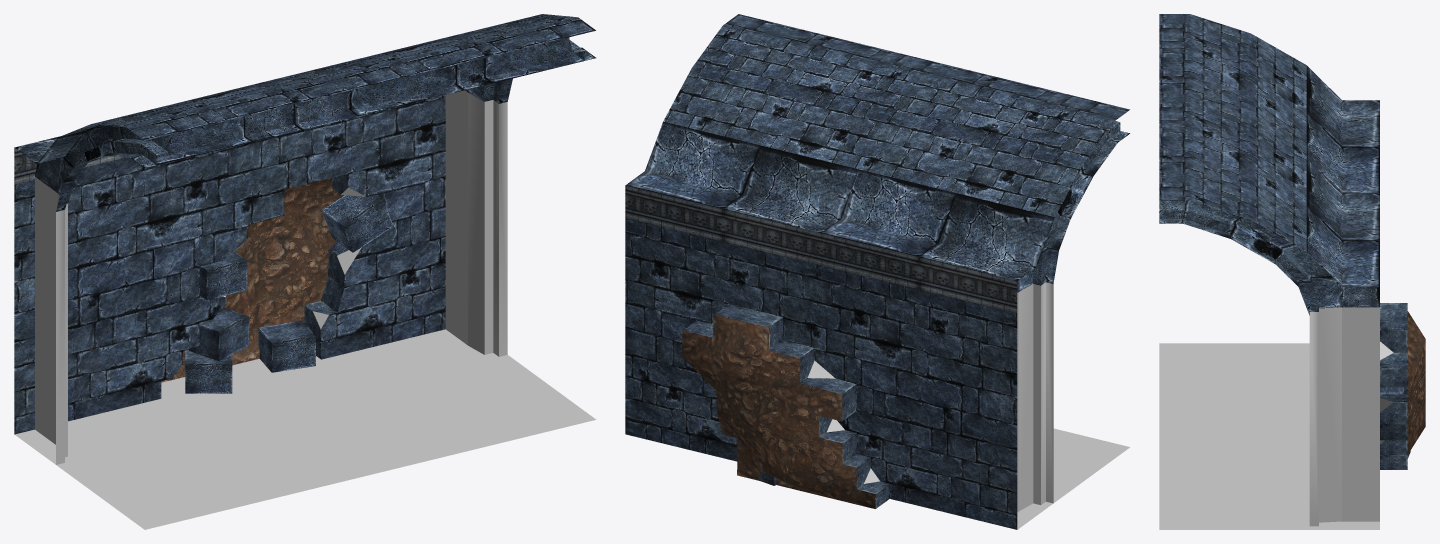
Rendered from Wall1Update2.FBX.
3 renders of one model, left to right at view 1: azimuth 30°, elevation 25°; view 2: azimuth 150°, elevation 25°; view 3: azimuth 270°, elevation 25°, orthographic. The views are drawn at different scales.
Parts seen in each view (by area): view 1: wall_03; view 2: wall_03; view 3: wall_03.
Boxes of the visible parts, bbox=[...] form: wall_03: bbox=[14, 14, 596, 529]; wall_03: bbox=[625, 14, 1129, 529]; wall_03: bbox=[1159, 14, 1425, 529].
Bounding box in the file's own units: 91.85 × 75.6 × 55.43.
